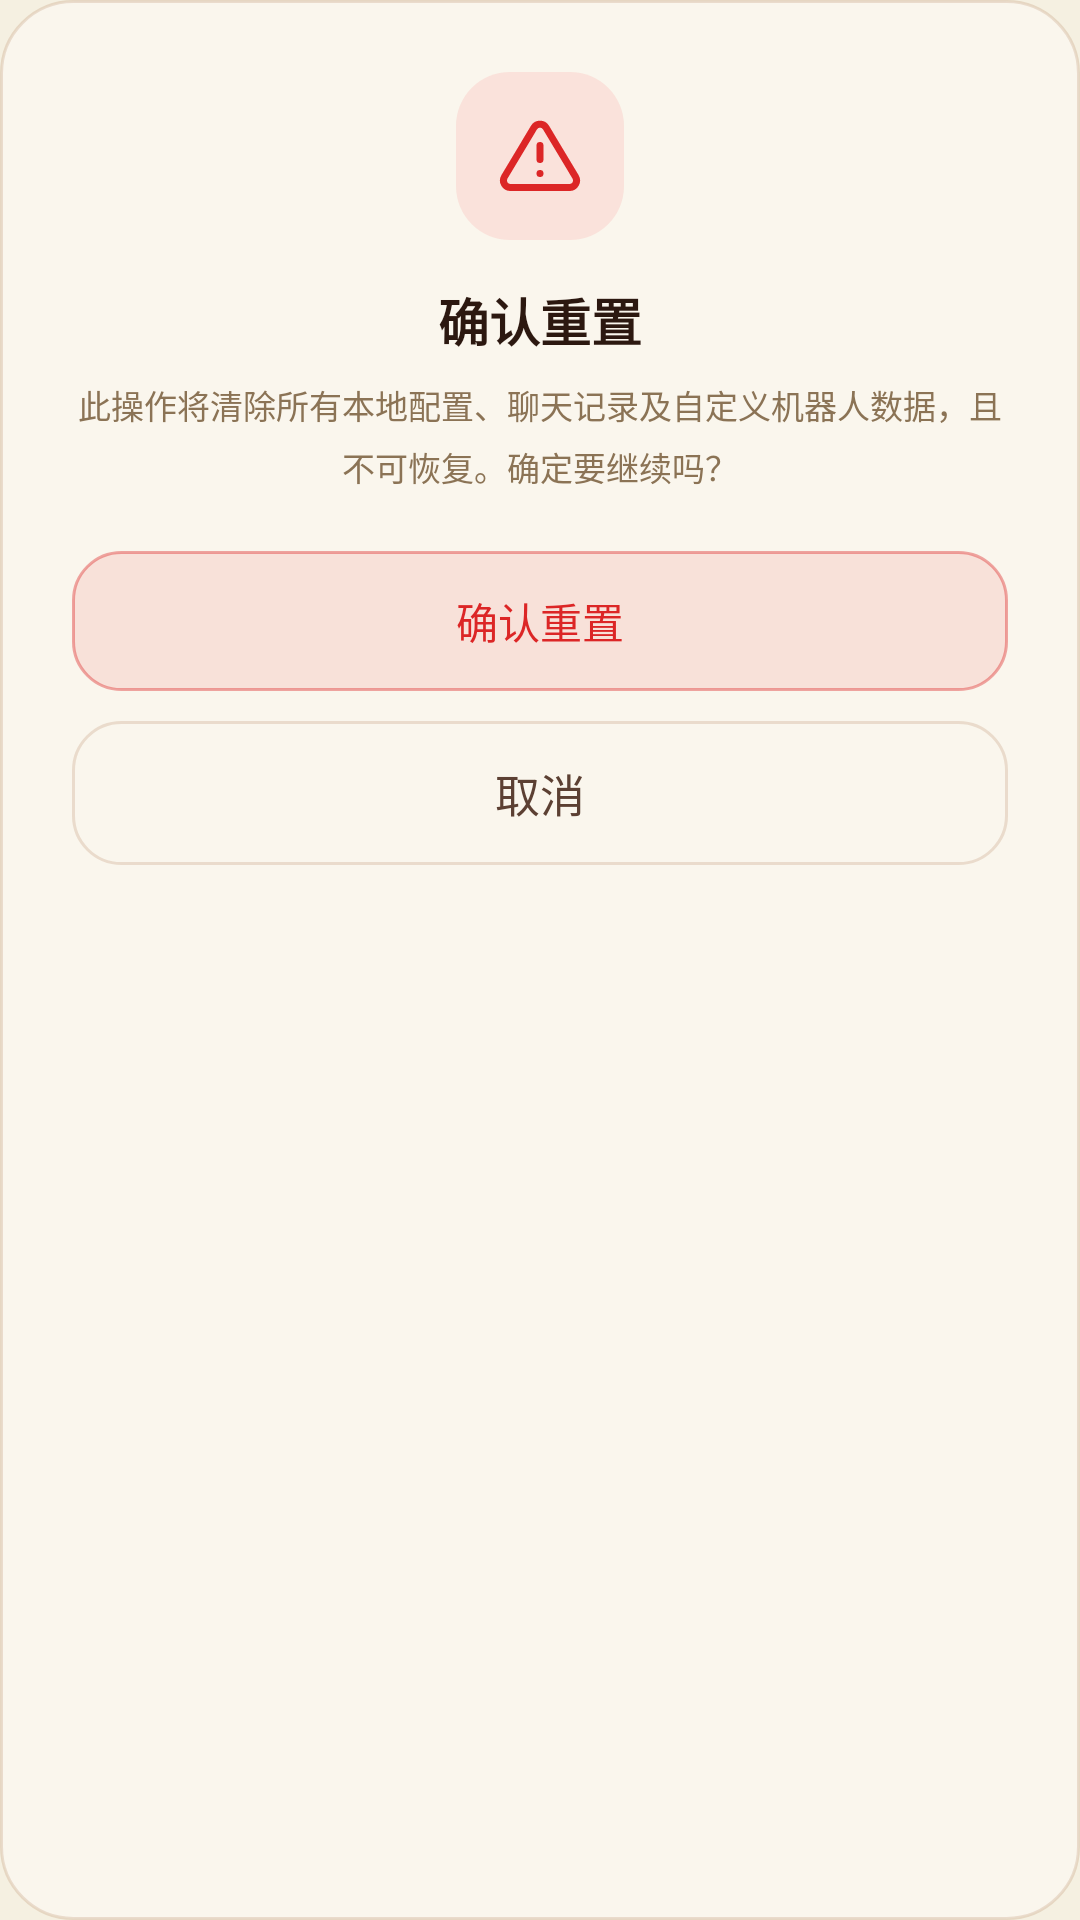

Locate icon controls on the screen. Image size 1080 × 1920, boxes as [x1,y1,x2,y2].
warning: [500,120,580,191]
